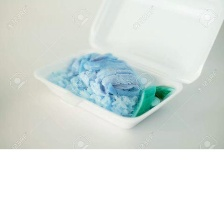foam_box: (27, 0, 224, 133)
